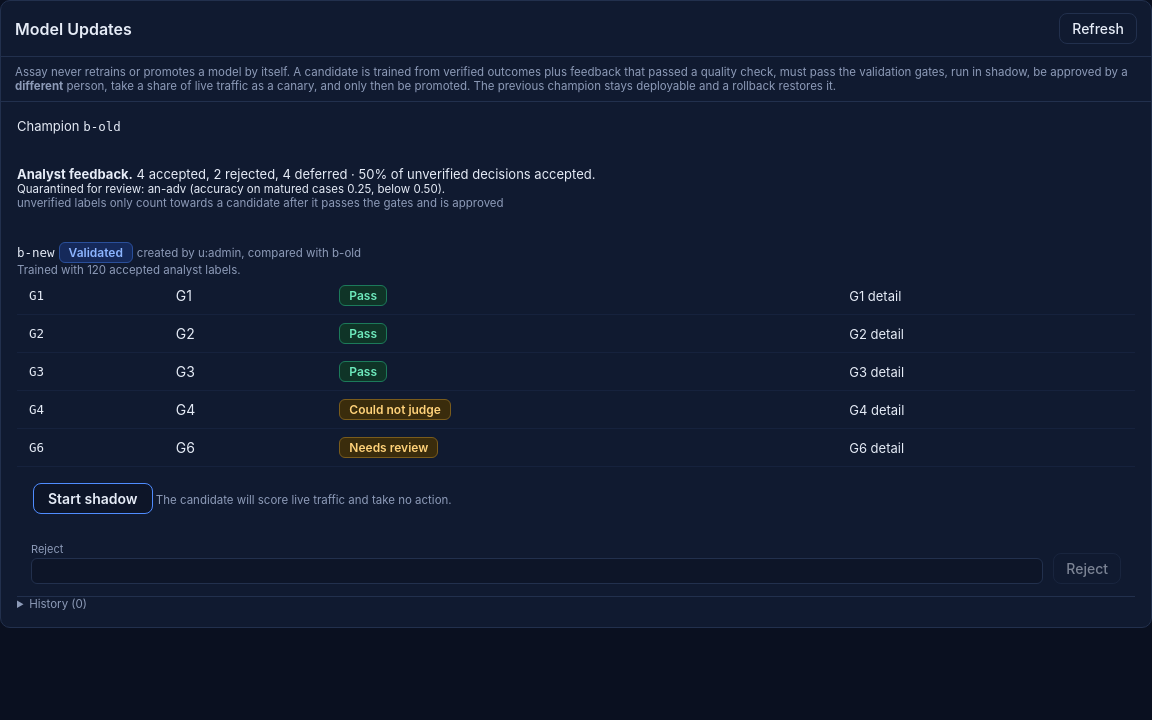
Test case: ModelUpdates › shows the server's refusal instead of hiding it
The image size is (1152, 720).
Click the button "Start shadow". click: click(93, 498)
box: [33,483,152,514]
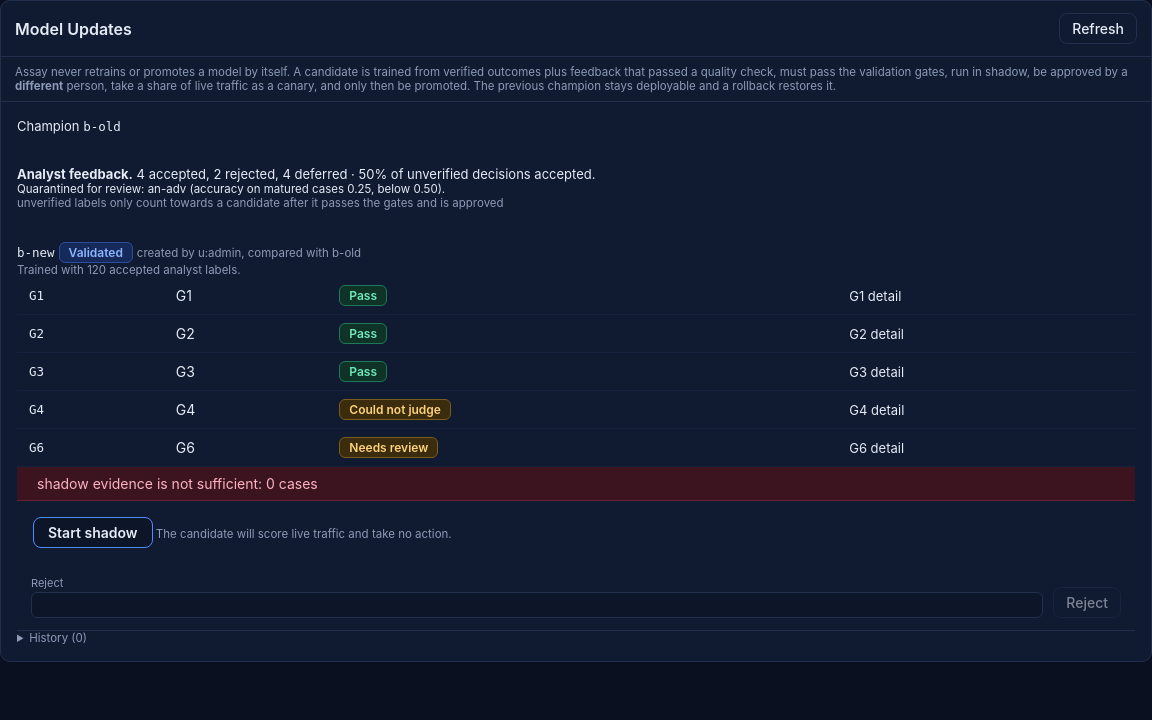
Check: the message shows "shadow evidence is not sufficient", box [37,475,318,492]
